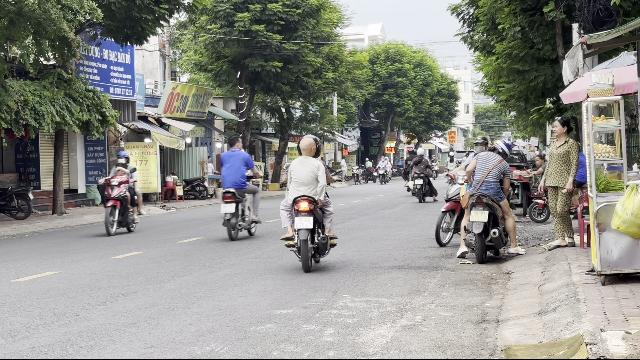helmet: (489, 138, 511, 160), (474, 134, 488, 150), (115, 150, 129, 166)
licenseplate: (294, 217, 314, 229), (469, 210, 488, 221), (221, 204, 235, 212)
motorcyclist: (277, 134, 339, 270), (458, 129, 520, 262), (216, 133, 262, 239), (96, 148, 144, 236)
nohelmet: (298, 138, 316, 158), (226, 134, 244, 150), (114, 162, 128, 176)
